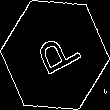P_SW: (27, 27, 83, 83)
